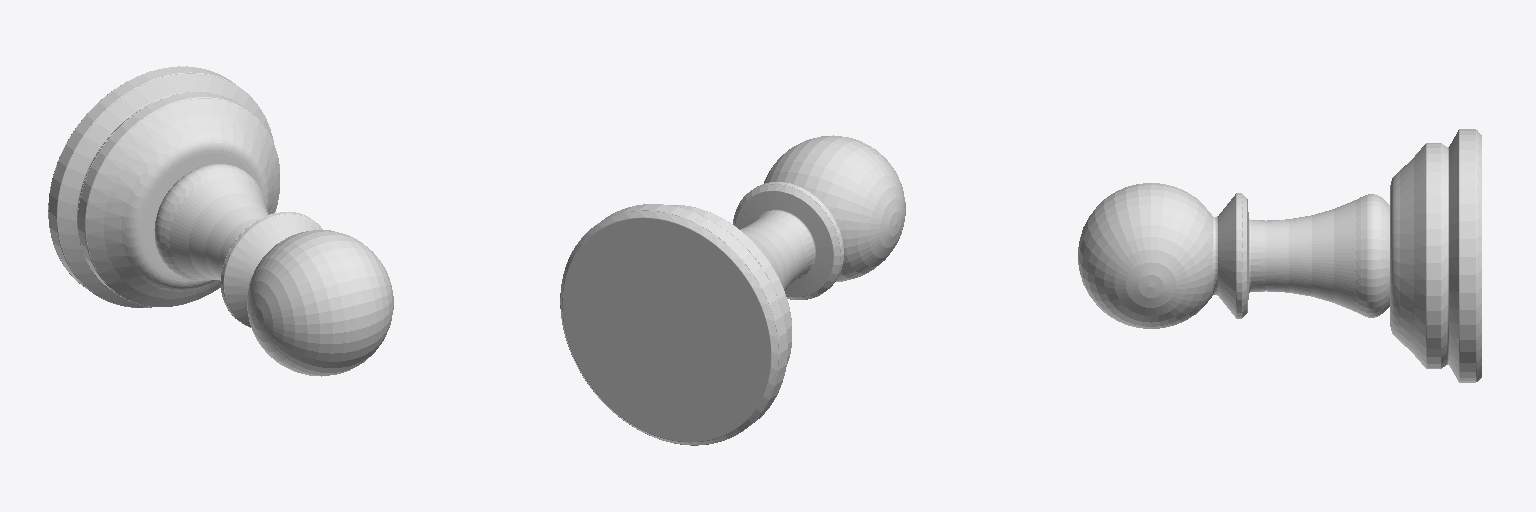
The model's file is Pawn_W.obj.
3 renders of one model, left to right at view 1: azimuth 30°, elevation 25°; view 2: azimuth 150°, elevation 25°; view 3: azimuth 270°, elevation 25°, orthographic.
Visible parts, largest first — view 1: Body1; view 2: Body1; view 3: Body1.
Boxes of the visible parts, x1=… form: Body1: x1=48, y1=66, x2=393, y2=376; Body1: x1=560, y1=135, x2=905, y2=445; Body1: x1=1078, y1=129, x2=1481, y2=382.
Bounding box in the file's own units: 0.0386 × 0.0386 × 0.0617.